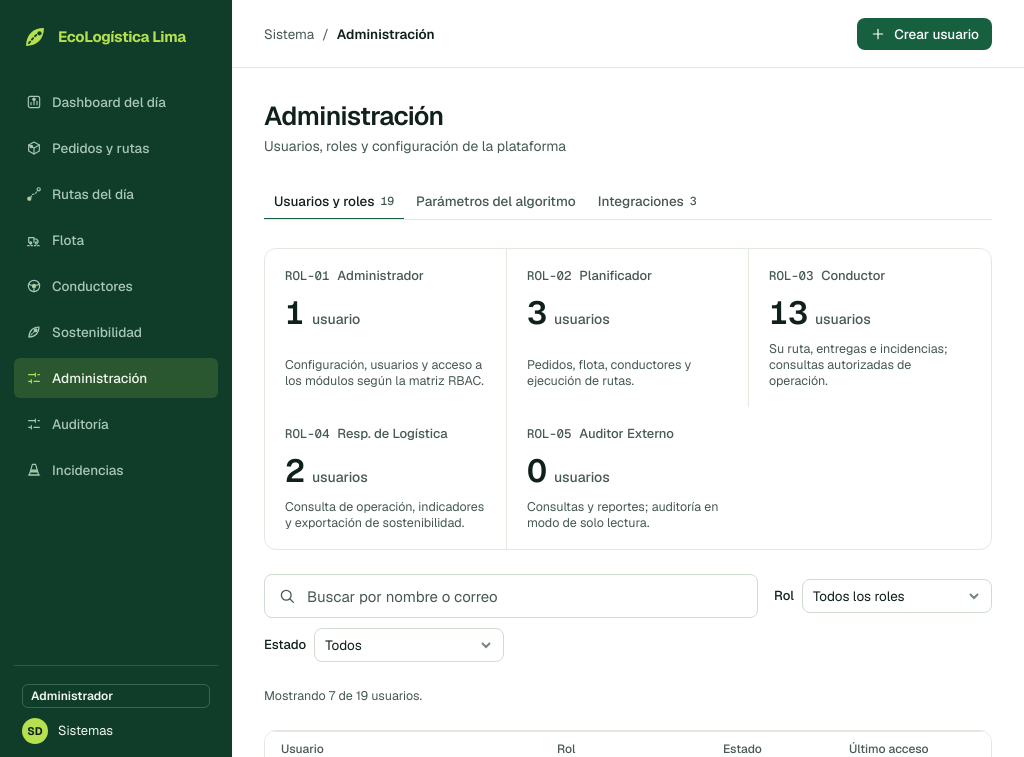
Scenario: AdminView · parámetros del algoritmo › si guardar falla muestra el error y conserva lo escrito
Click the tab "Parámetros del algoritmo". click: (496, 202)
box: [406,184,586,220]
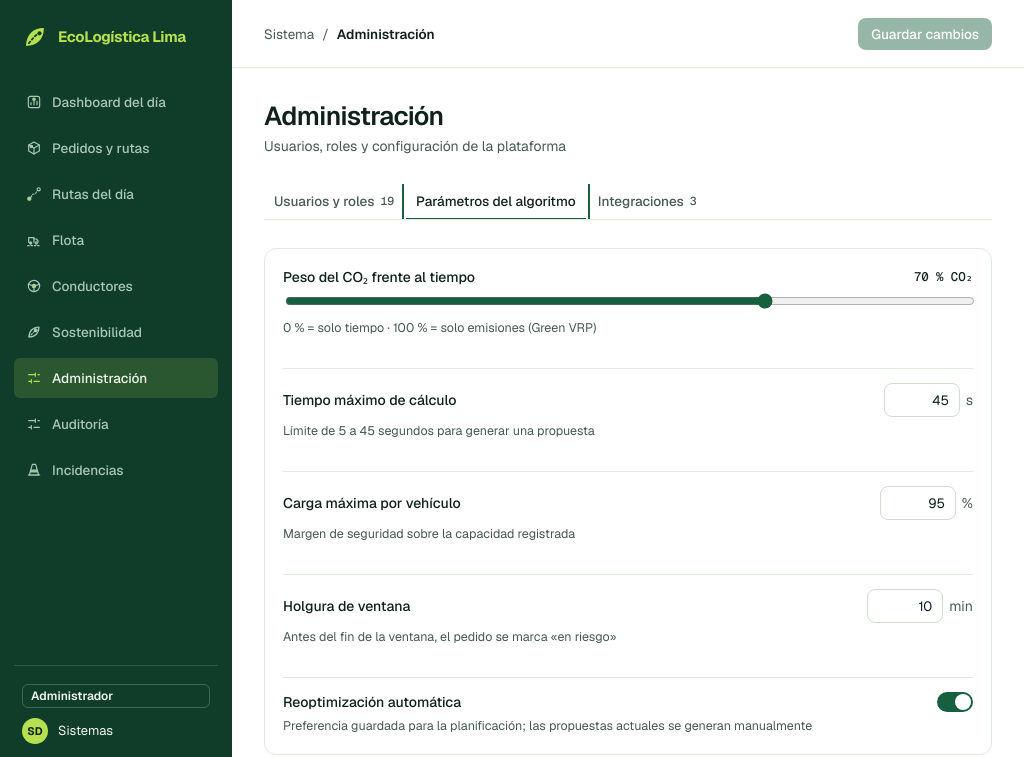
Now the field named "Tiempo máximo de cálculo en segundos" is shown, box [884,383,960,417]
Replace the text in the field named "Holgura de ventana en minutos" with "15". click: (905, 606)
box: [867,589,943,623]
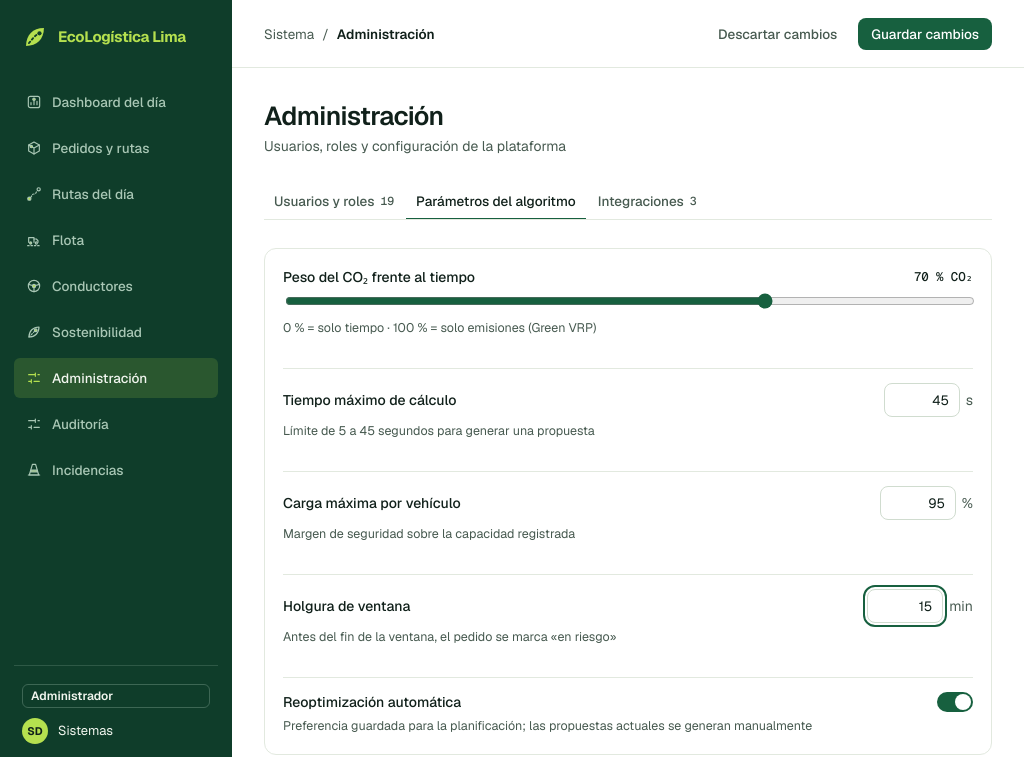
Click the button "Guardar cambios". click: (925, 34)
box: [858,18,992,50]
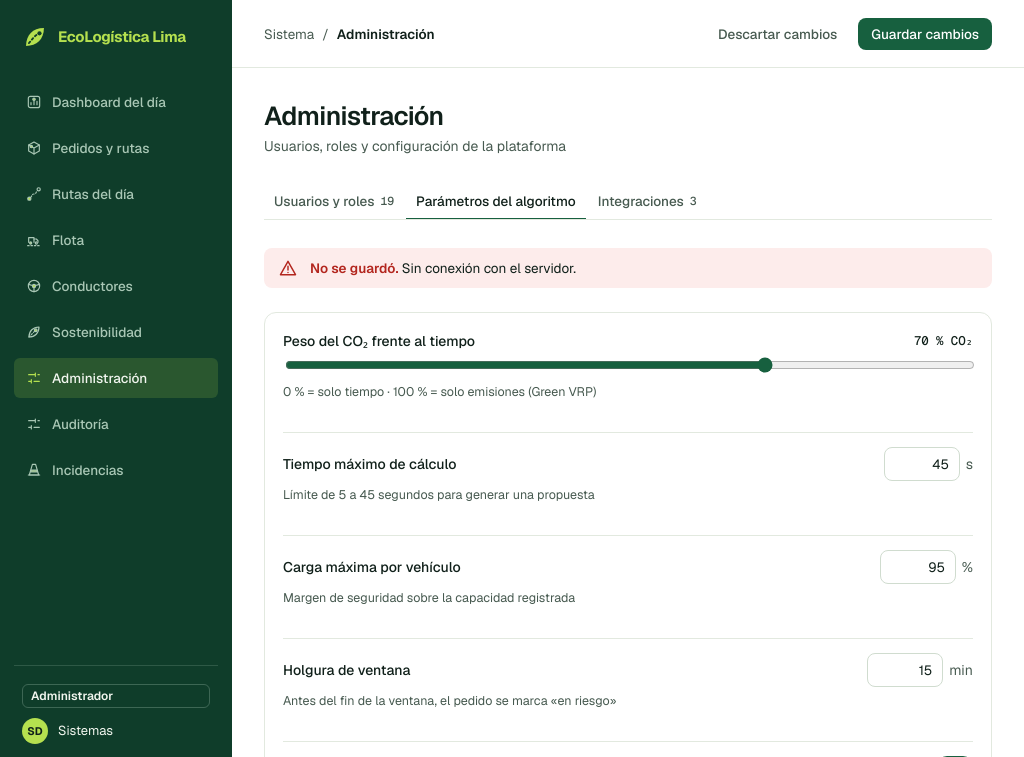
Now the message shows "Sin conexión con el servidor.", box [402,259,576,277]
